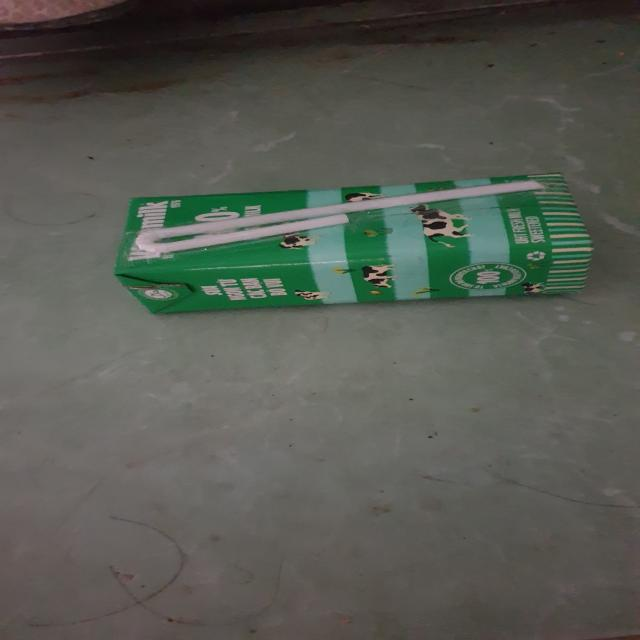Vina: (112, 171, 598, 319)
